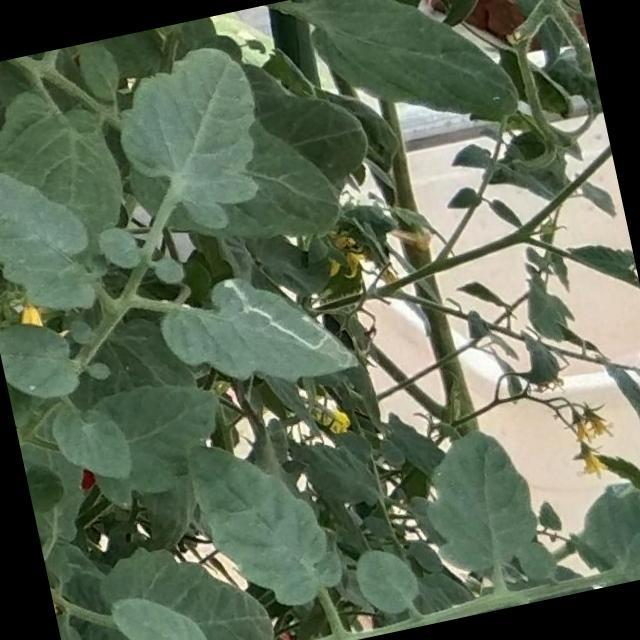Tomato healthy leaf: (101, 36, 283, 250), (172, 411, 350, 624), (412, 419, 552, 586), (0, 133, 103, 335)
Tomato target spot leaf: (153, 246, 370, 412)
